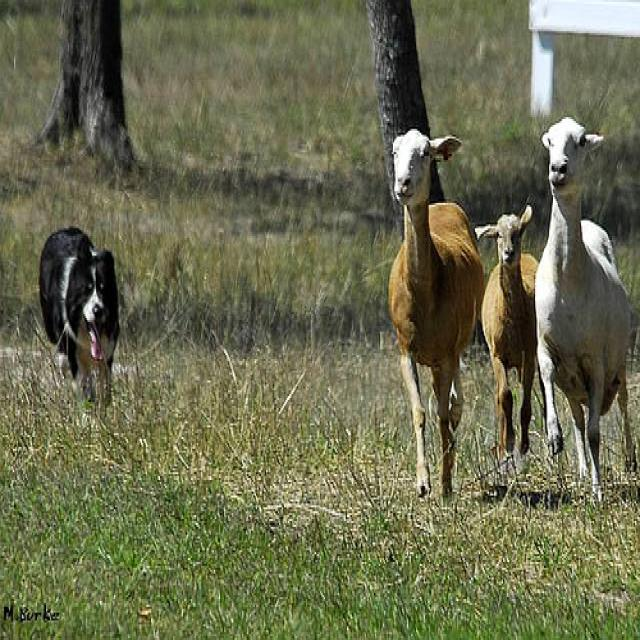dog: (39, 225, 120, 413)
sheep: (535, 116, 635, 503), (387, 126, 485, 500), (474, 206, 543, 473)
